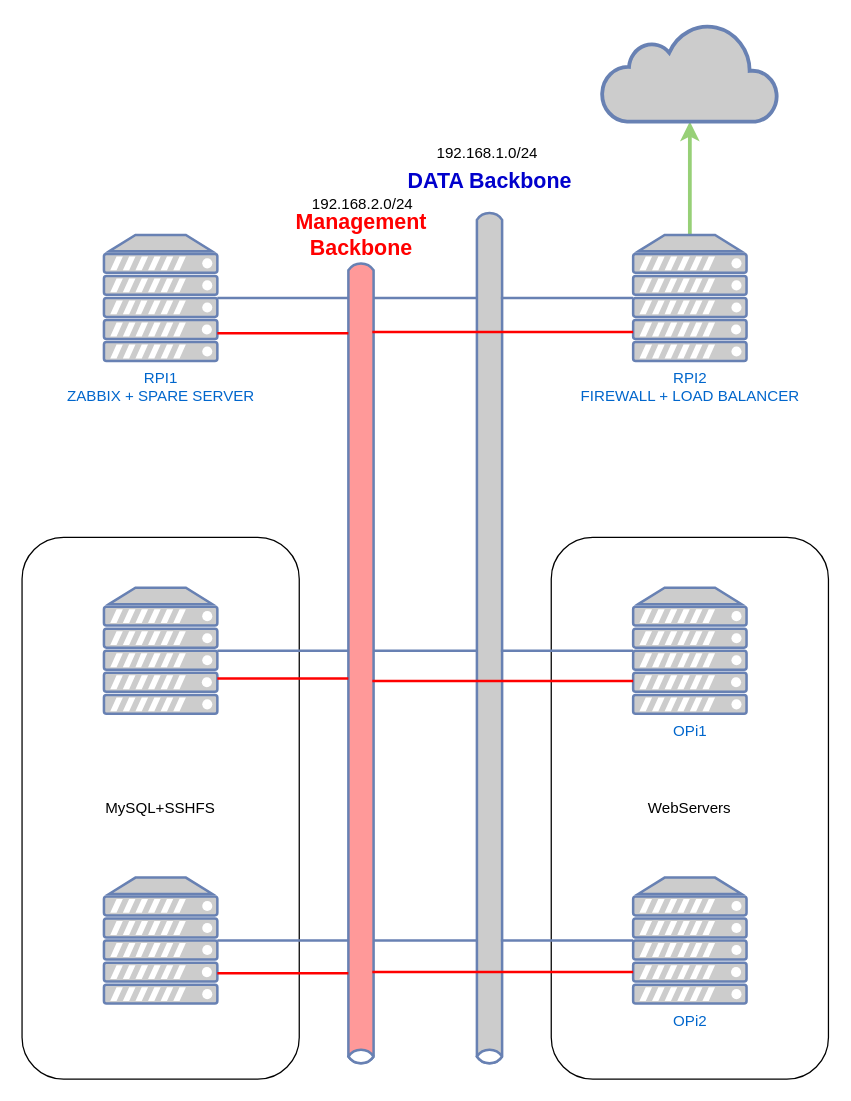
Some shapes in this 851 by 1101 pixel diagram are drawn without their labels. Here are the shapes that lost their labels. From the top down, the centre of each, then its label:
At [689,71]: "INTERNET".
At [160,650]: "OPi3".
At [160,940]: "OPi4".
